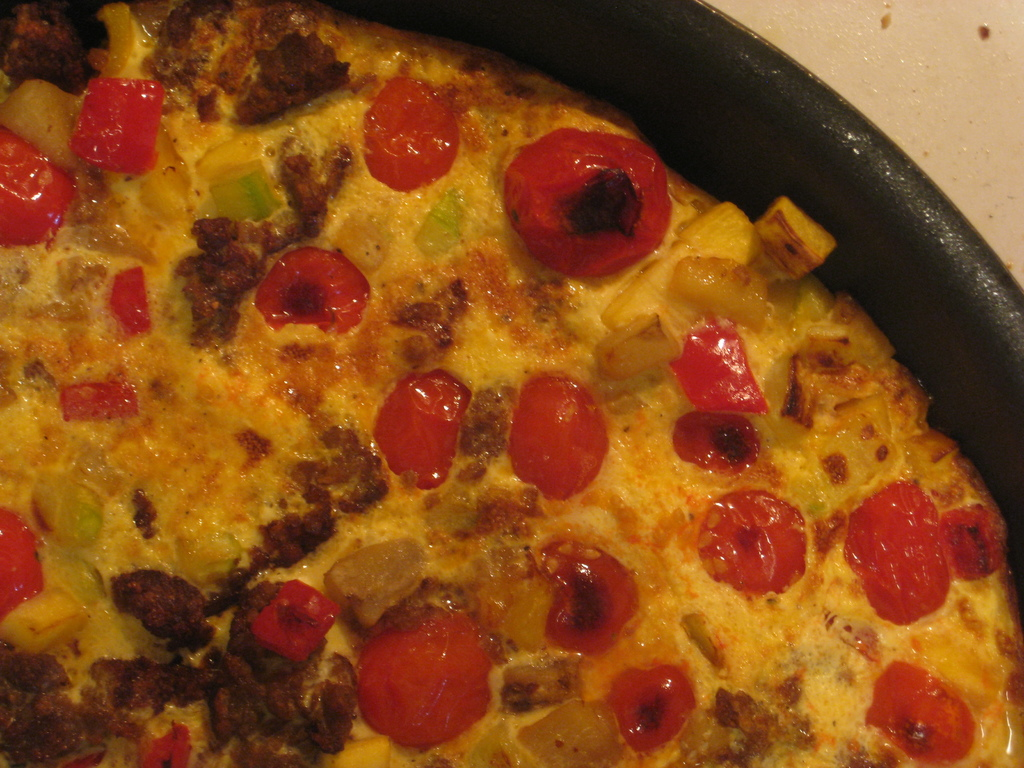Pizza: (15, 0, 1024, 768)
